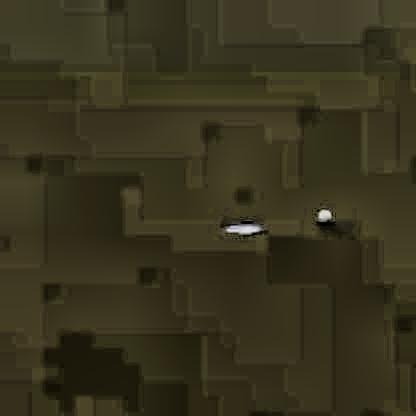golfball: (315, 207, 331, 223)
